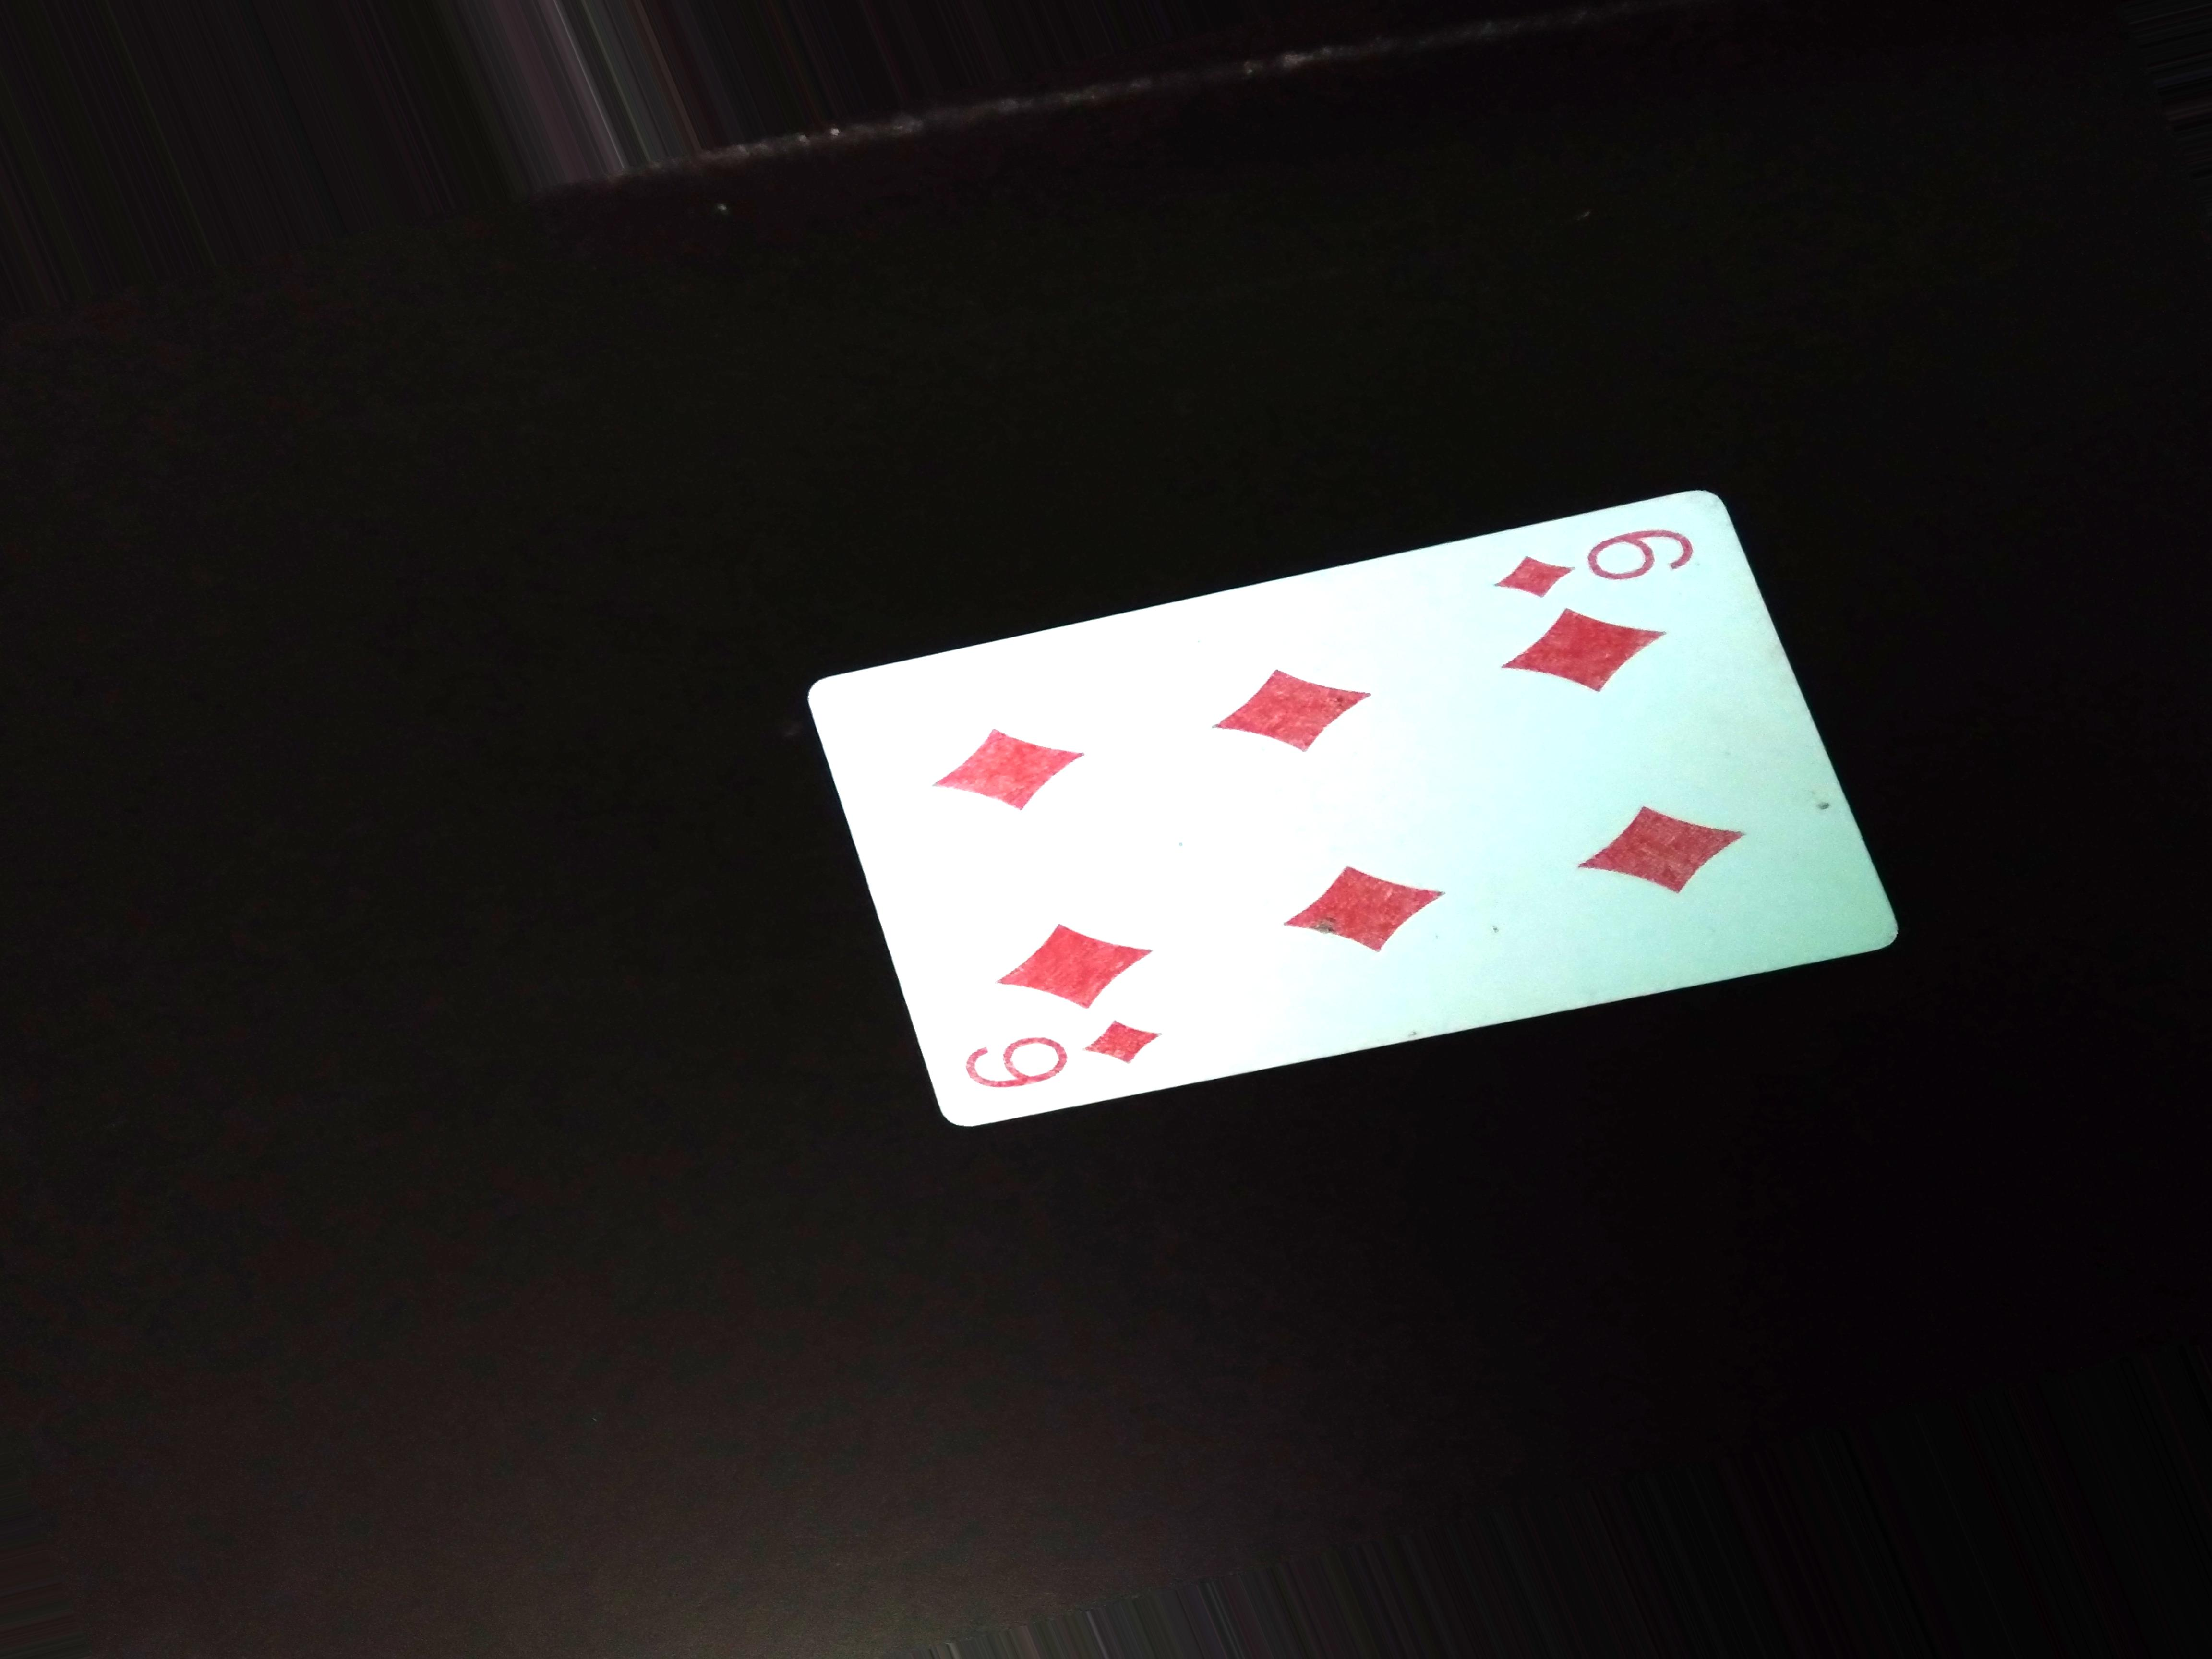6D: (944, 1025, 1172, 1096)
